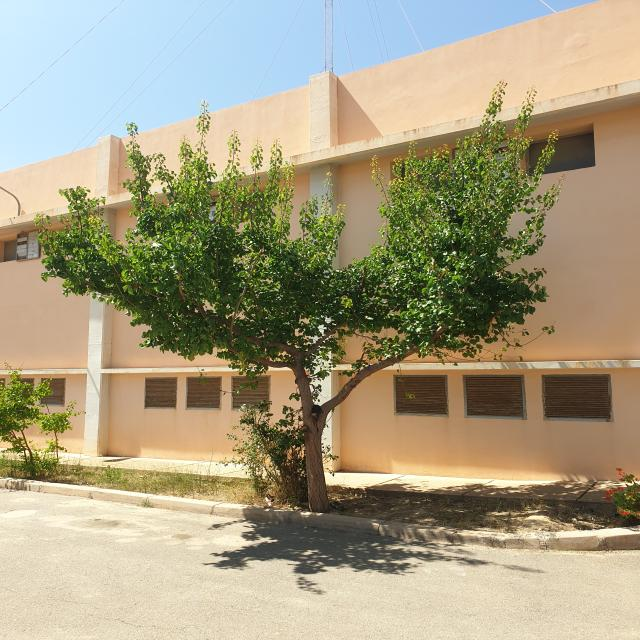Tree: (34, 83, 561, 512)
